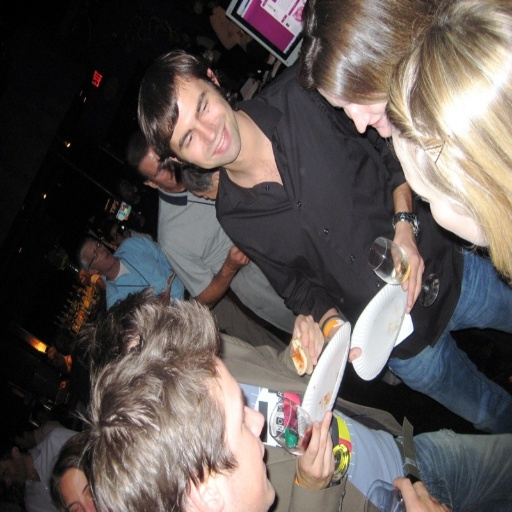hand: (299, 418, 345, 500), (388, 232, 425, 314), (391, 474, 449, 510), (292, 312, 324, 366), (327, 323, 361, 360), (224, 245, 252, 269), (156, 285, 171, 305)
